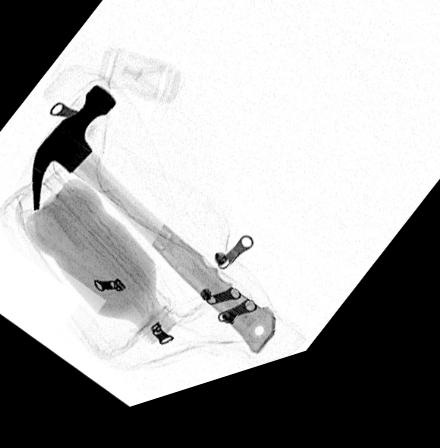Hammer: (31, 90, 277, 371)
